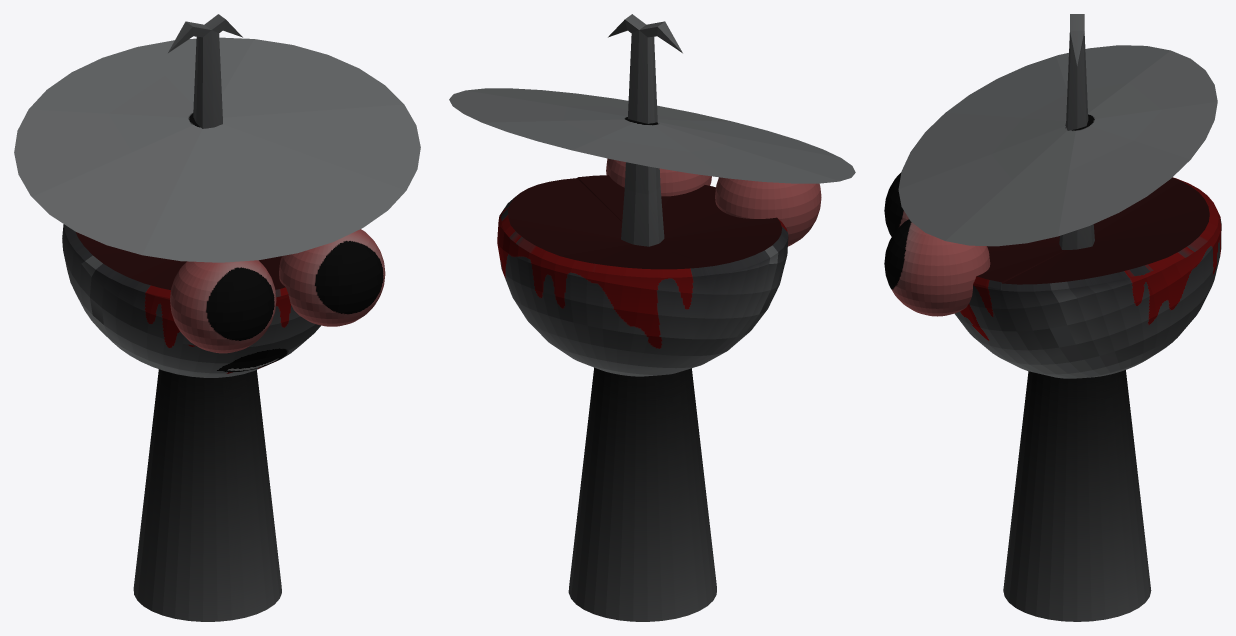
File: clukr.fbx
The picture shows the model from 3 angles, left to right: view 1: azimuth 30°, elevation 25°; view 2: azimuth 150°, elevation 25°; view 3: azimuth 270°, elevation 25°; orthographic projection.
Visible parts, largest first — view 1: Cylinder.001, Cylinder, Sphere, Sphere.001, Sphere.002, Cube; view 2: Sphere, Cylinder, Cylinder.001, Cube, Sphere.001, Sphere.002; view 3: Cylinder.001, Sphere, Cylinder, Sphere.002, Cube, Sphere.001.
Part boxes in pixels (bbox=[...]): Cylinder.001: bbox=[14, 37, 420, 262]; Cylinder: bbox=[133, 369, 281, 621]; Sphere: bbox=[62, 224, 320, 377]; Sphere.001: bbox=[170, 260, 276, 353]; Sphere.002: bbox=[279, 229, 385, 326]; Cube: bbox=[168, 14, 242, 128]; Sphere: bbox=[497, 175, 788, 376]; Cylinder: bbox=[568, 367, 716, 621]; Cylinder.001: bbox=[449, 88, 855, 183]; Cube: bbox=[608, 14, 682, 246]; Sphere.001: bbox=[715, 177, 821, 246]; Sphere.002: bbox=[606, 158, 711, 196]; Cylinder.001: bbox=[898, 45, 1217, 246]; Sphere: bbox=[955, 177, 1221, 378]; Cylinder: bbox=[1003, 370, 1151, 621]; Sphere.002: bbox=[884, 219, 990, 316]; Cube: bbox=[1059, 14, 1094, 249]; Sphere.001: bbox=[884, 172, 908, 236].
Bounding box in the file's own units: 278 × 406 × 219.
Materials: 1 (1 with a texture image).
